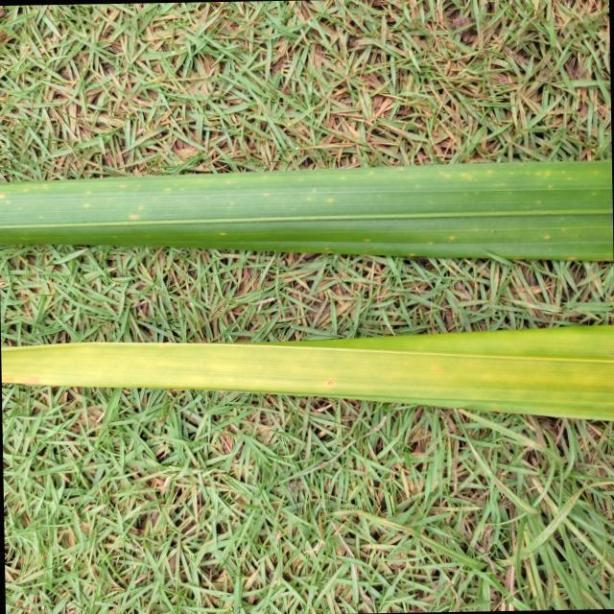nitrogen: (0, 153, 614, 264), (0, 323, 614, 427)
